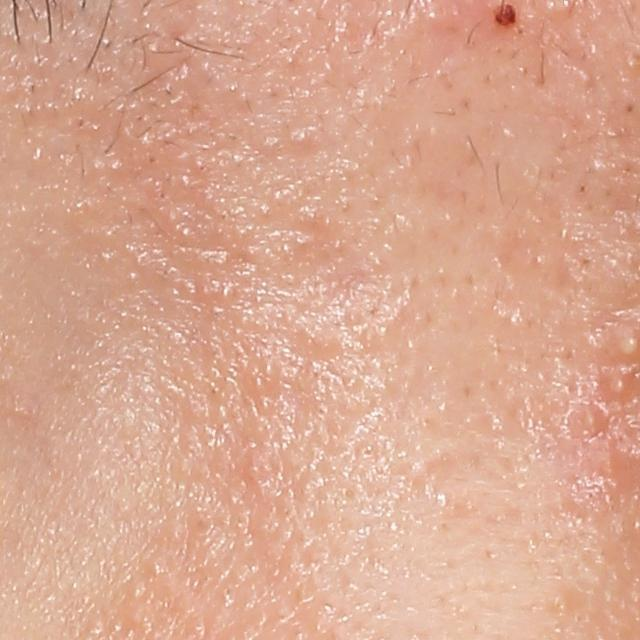comedo: (284, 126, 309, 151)
pustule: (602, 367, 638, 405)
